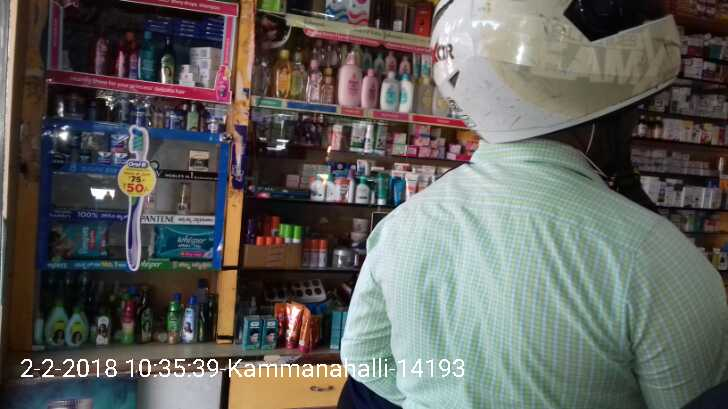beauty: (188, 151, 208, 174), (176, 182, 189, 217)
pharmacy: (153, 224, 213, 260), (53, 223, 111, 259)
